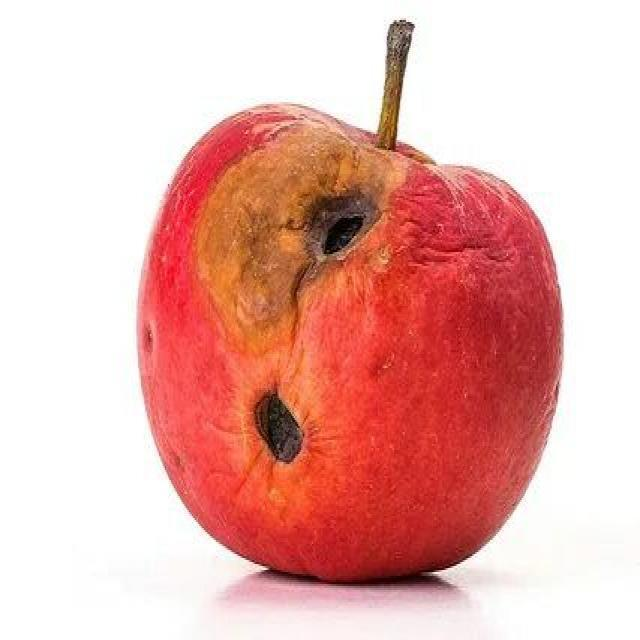Rotten: (128, 103, 548, 582)
